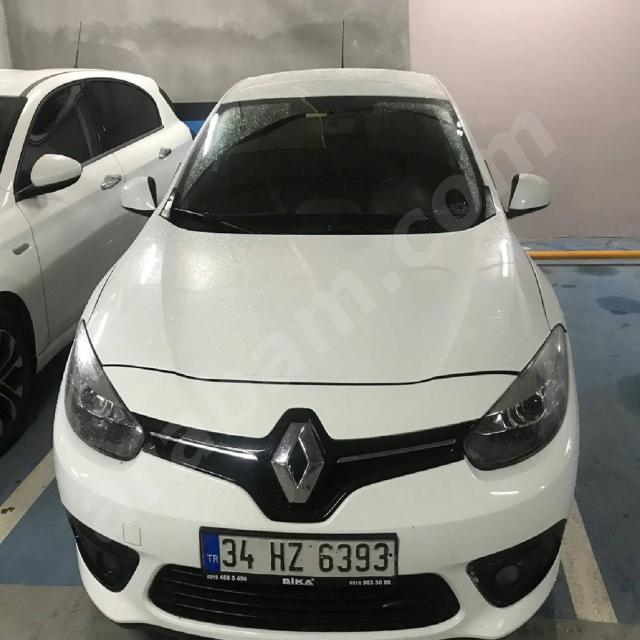license_plate: (201, 532, 396, 578)
